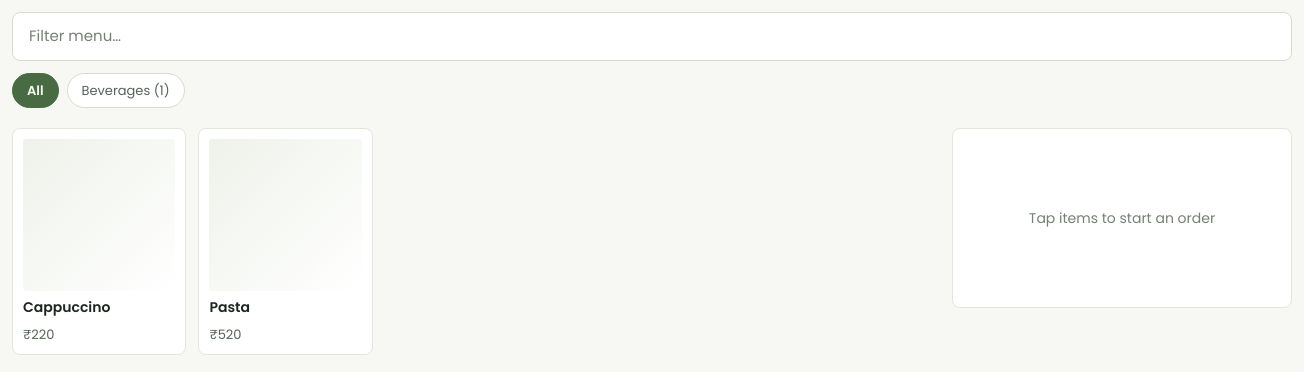
Scenario: MenuPage › search filters tiles in-memory (no extra fetch)
Expected: the text "Cappuccino" is shown, [23,299,110,317]
Type "pas" into the search field with placeholder "Filter menu…" at (652, 36), box [12,12,1292,60]
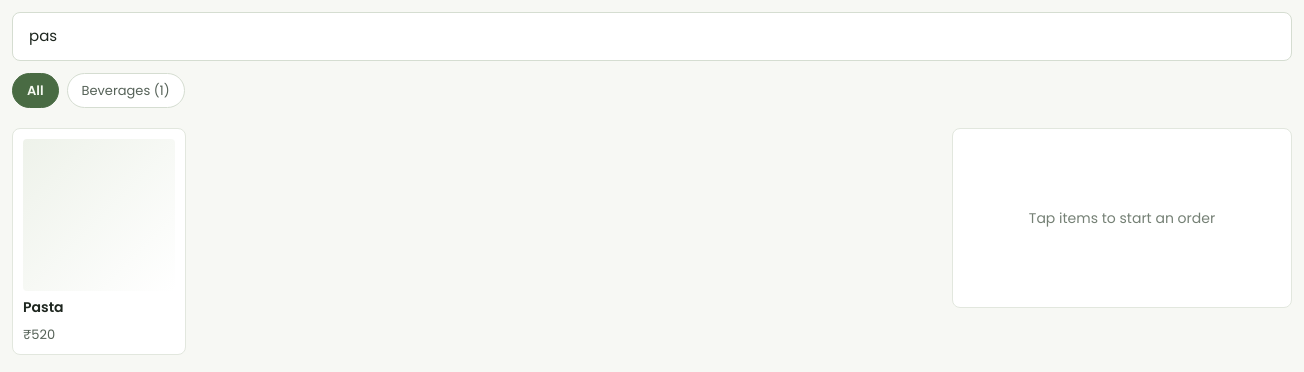
Expected: the text "Pasta" is shown, [23,299,64,317]
Now the button "Cappuccino" is gone
